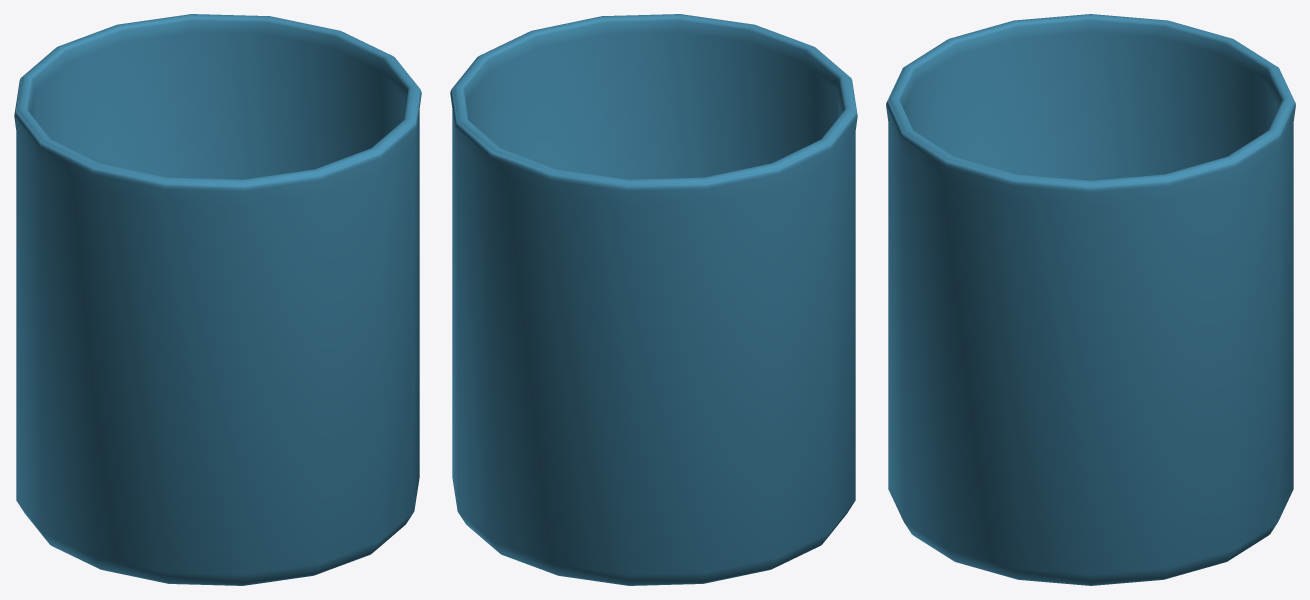
Rendered from Glass_Rocks.fbx.
3 views of the same model, side by side, from view 1: azimuth 30°, elevation 25°; view 2: azimuth 150°, elevation 25°; view 3: azimuth 270°, elevation 25° (orthographic).
Parts seen in each view (by area): view 1: Rocks_Glass; view 2: Rocks_Glass; view 3: Rocks_Glass.
Boxes of the visible parts, x1,y1,x2,y2 form: Rocks_Glass: [14, 14, 421, 585]; Rocks_Glass: [450, 14, 857, 585]; Rocks_Glass: [886, 14, 1295, 585].
Bounding box in the file's own units: 0.0808 × 0.09 × 0.0808.
